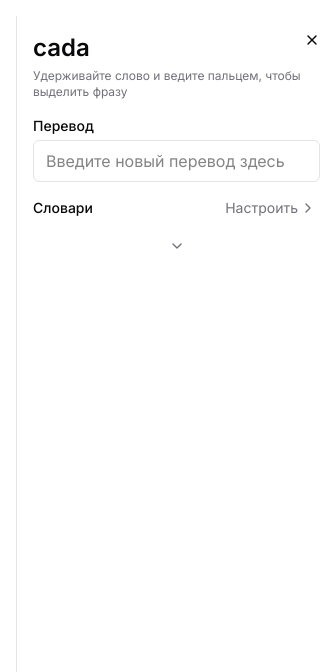
it: WordCard core › keeps an in-progress translation save in its original language when locale changes during item creation
The width and height of the screenshot is (336, 672).
Type "каждый" into the field with placeholder "Введите новый перевод здесь" at (176, 161), box [33,140,320,182]
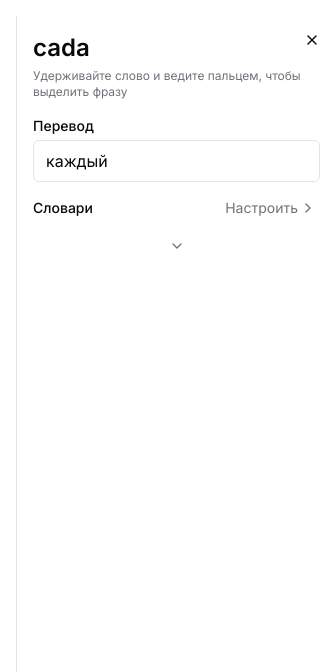
Press Enter in the field with placeholder "Введите новый перевод здесь", box [33,140,320,182]
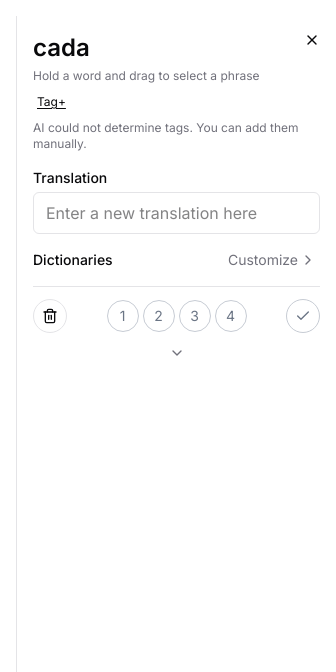
Result: the field with placeholder "Enter a new translation here" is shown at [33,192,320,234]
